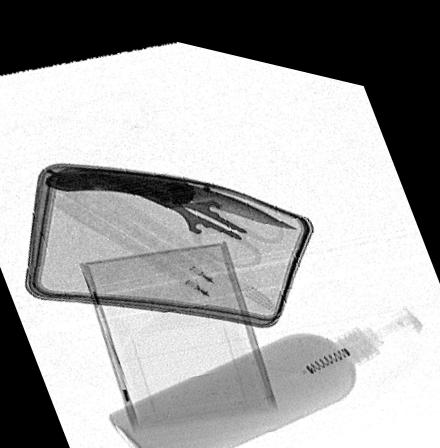Knife: (46, 168, 296, 215)
Scissors: (93, 167, 288, 259)
